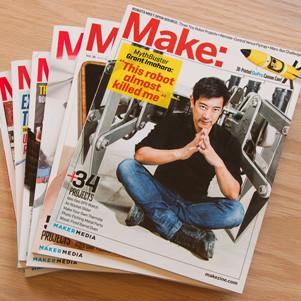Rec_Paper: (5, 7, 291, 294)
